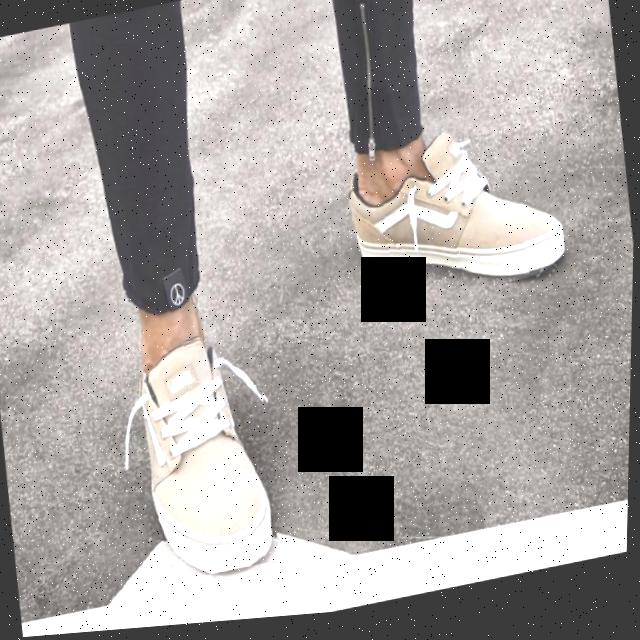shoe: (339, 121, 571, 322), (132, 327, 286, 589)
